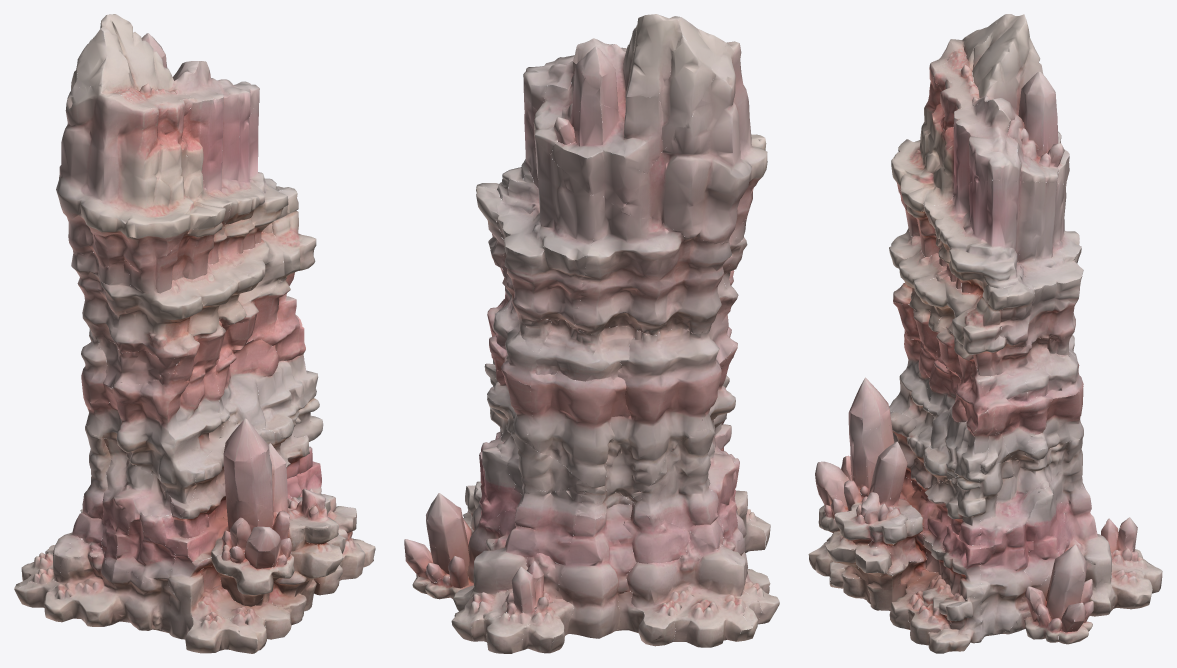
Rendered from salt-pillar-tripo.glb.
3 renders of one model, left to right at view 1: azimuth 30°, elevation 25°; view 2: azimuth 150°, elevation 25°; view 3: azimuth 270°, elevation 25°, orthographic. The views are drawn at different scales.
Visible parts, largest first — view 1: tripo_node_e8de2bbe-4326-4a98-90a7-bd6eb775acc5; view 2: tripo_node_e8de2bbe-4326-4a98-90a7-bd6eb775acc5; view 3: tripo_node_e8de2bbe-4326-4a98-90a7-bd6eb775acc5.
Part boxes in pixels (x1,y1,x2,y2): tripo_node_e8de2bbe-4326-4a98-90a7-bd6eb775acc5: (14, 14, 375, 653); tripo_node_e8de2bbe-4326-4a98-90a7-bd6eb775acc5: (404, 14, 779, 653); tripo_node_e8de2bbe-4326-4a98-90a7-bd6eb775acc5: (808, 14, 1162, 653).
Bounding box in the file's own units: 0.5804 × 1 × 0.5971.
1 material, 1 textured.
